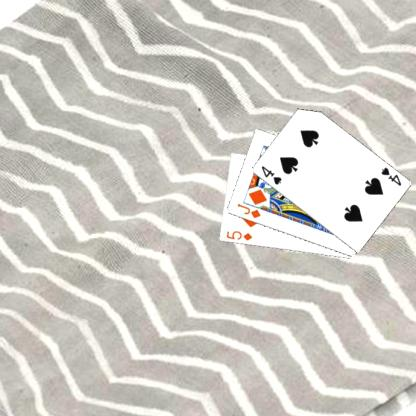4S: (378, 164, 402, 187), (258, 164, 282, 186)
5D: (224, 228, 253, 242)
JD: (234, 201, 262, 219)
